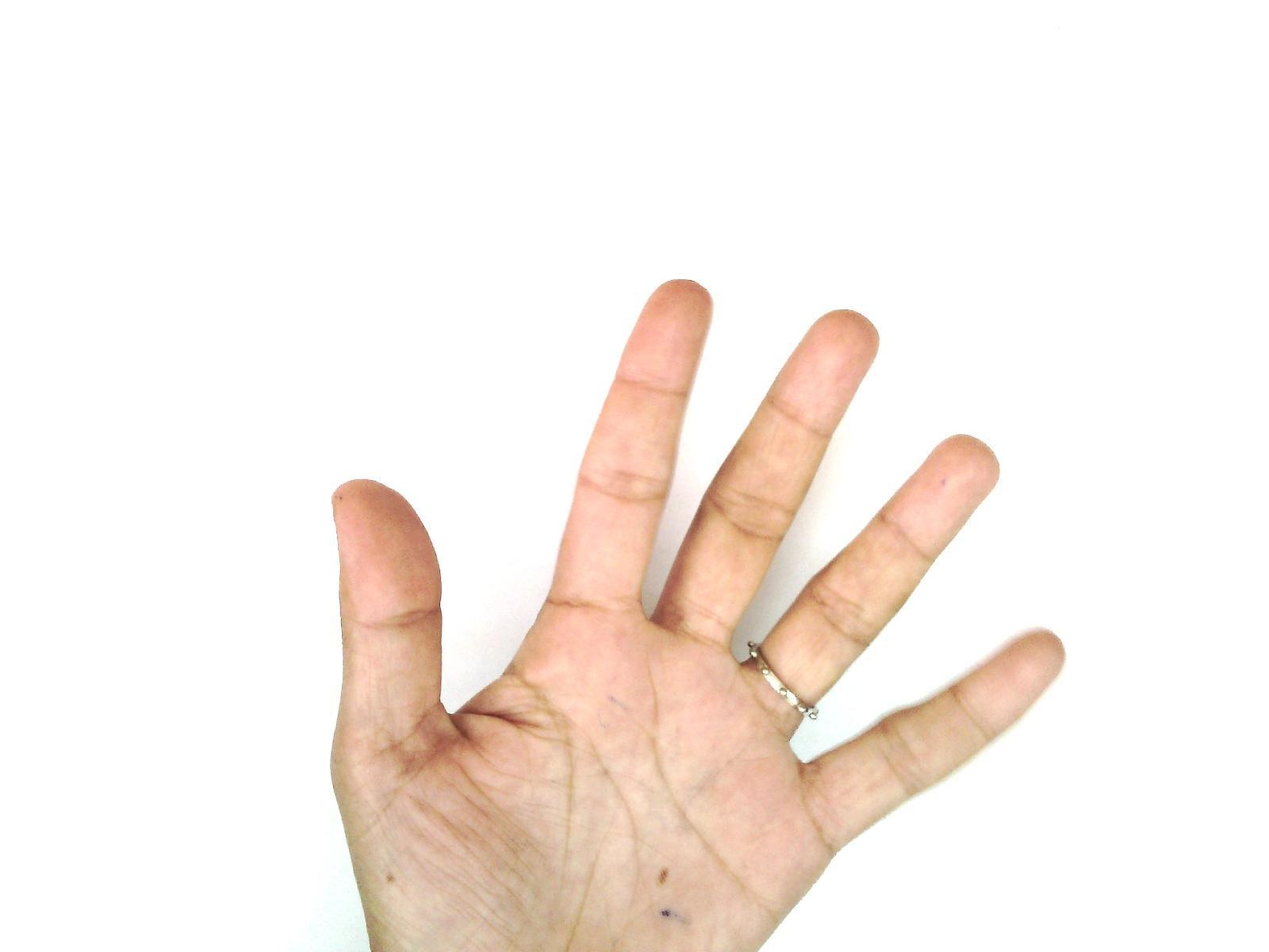open_palm: (325, 277, 1068, 951)
